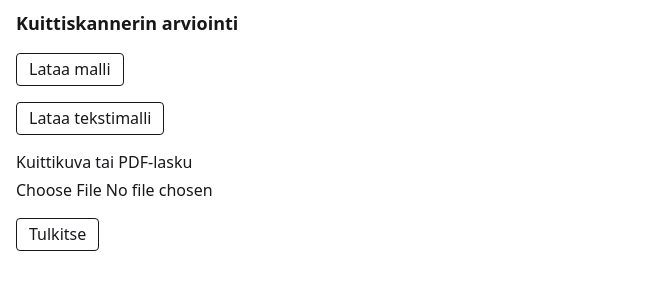
Test case: KuittiArviointi › näyttää WebGPU-varoituksen kun malli ei ole saatavilla
The image size is (646, 307).
Click the button "Lataa malli". click: (70, 70)
box: x1=16 y1=53 x2=124 y2=86
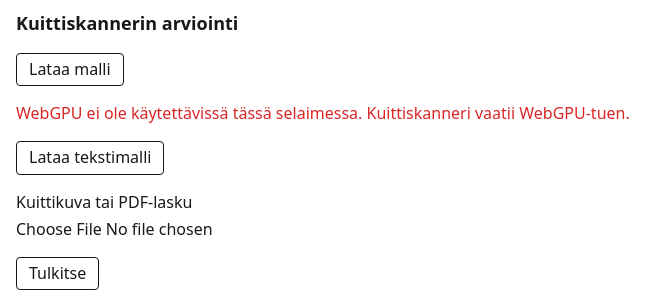
Now the message shows "WebGPU", box x1=16 y1=102 x2=630 y2=124
